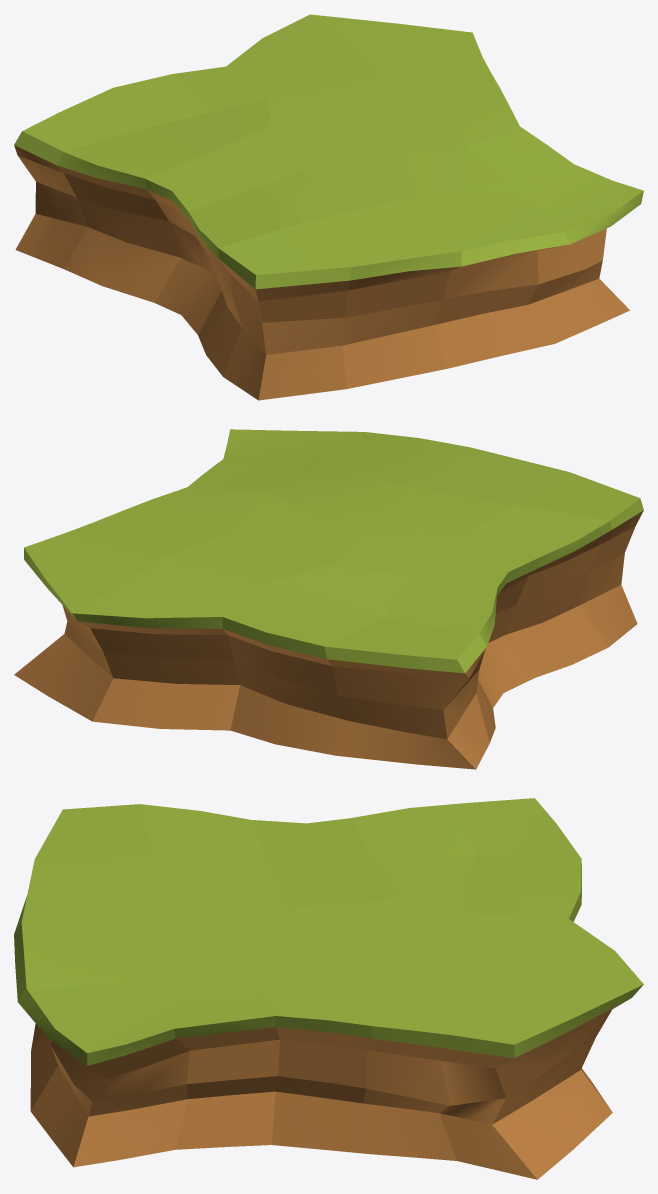
File: drn_textured10.fbx
3 views of the same model, one above another, from view 1: azimuth 30°, elevation 25°; view 2: azimuth 150°, elevation 25°; view 3: azimuth 270°, elevation 25° (orthographic). The views are drawn at different scales.
Parts seen in each view (by area): view 1: JaynamLowPolyTerrain_drny_rozdelane:pCube8; view 2: JaynamLowPolyTerrain_drny_rozdelane:pCube8; view 3: JaynamLowPolyTerrain_drny_rozdelane:pCube8.
Part boxes in pixels (x1,y1,x2,y2): JaynamLowPolyTerrain_drny_rozdelane:pCube8: (14, 14, 643, 400); JaynamLowPolyTerrain_drny_rozdelane:pCube8: (14, 429, 643, 769); JaynamLowPolyTerrain_drny_rozdelane:pCube8: (14, 798, 643, 1179).
Size of the model in its own units: 1.87 by 0.5265 by 1.98.
